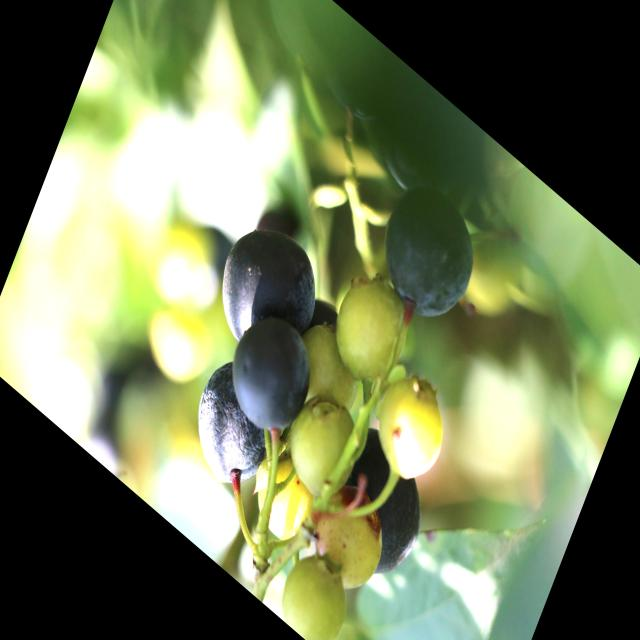blueberry: (201, 192, 335, 392), (312, 410, 444, 604), (365, 162, 492, 348), (214, 289, 330, 462), (177, 344, 289, 511), (292, 274, 353, 360)
blueberry-unripe: (326, 264, 419, 404), (366, 360, 457, 500), (281, 380, 369, 516), (308, 482, 396, 609), (271, 540, 357, 640), (246, 445, 320, 554)
